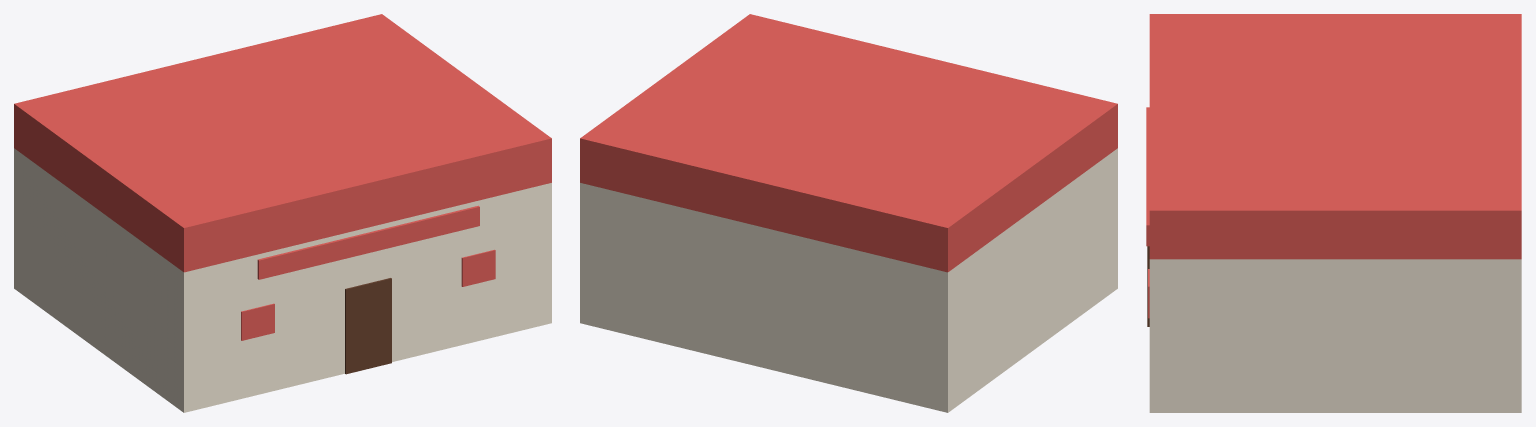
Rendered from gedung_minimarket.fbx.
3 renders of one model, left to right at view 1: azimuth 30°, elevation 25°; view 2: azimuth 150°, elevation 25°; view 3: azimuth 270°, elevation 25°, orthographic. The views are drawn at different scales.
Visible parts, largest first — view 1: gedung_minimarket; view 2: gedung_minimarket; view 3: gedung_minimarket.
Boxes of the visible parts, <box> form: gedung_minimarket: <box>14,14,551,412</box>; gedung_minimarket: <box>580,14,1117,412</box>; gedung_minimarket: <box>1146,14,1521,412</box>.
Bounding box in the file's own units: 1000 × 480 × 807.
1 material, 1 textured.
